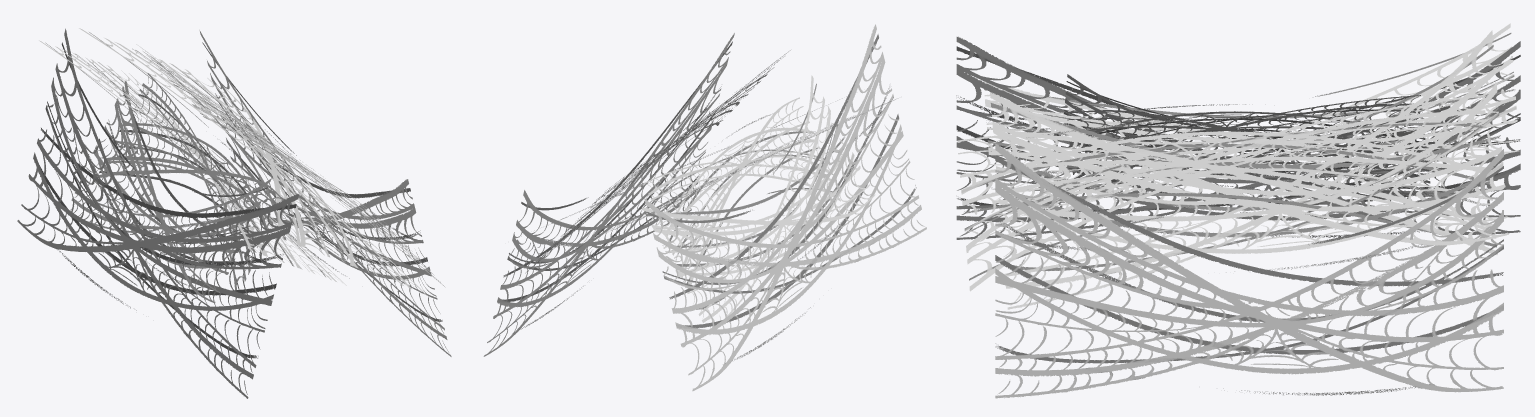
File: cobwebplanes_modelingfbx.fbx
3 views of the same model, side by side, from view 1: azimuth 30°, elevation 25°; view 2: azimuth 150°, elevation 25°; view 3: azimuth 270°, elevation 25° (orthographic). The views are drawn at different scales.
Parts seen in each view (by area): view 1: whitecobweb_modelingfbx; view 2: whitecobweb_modelingfbx; view 3: whitecobweb_modelingfbx.
Boxes of the visible parts, left/top/right/bottom form: whitecobweb_modelingfbx: left=17, top=28, right=451, bottom=398; whitecobweb_modelingfbx: left=483, top=24, right=926, bottom=391; whitecobweb_modelingfbx: left=956, top=23, right=1520, bottom=398.
Bounding box in the file's own units: 182 × 182 × 331.
Materials: 1 (1 with a texture image).
